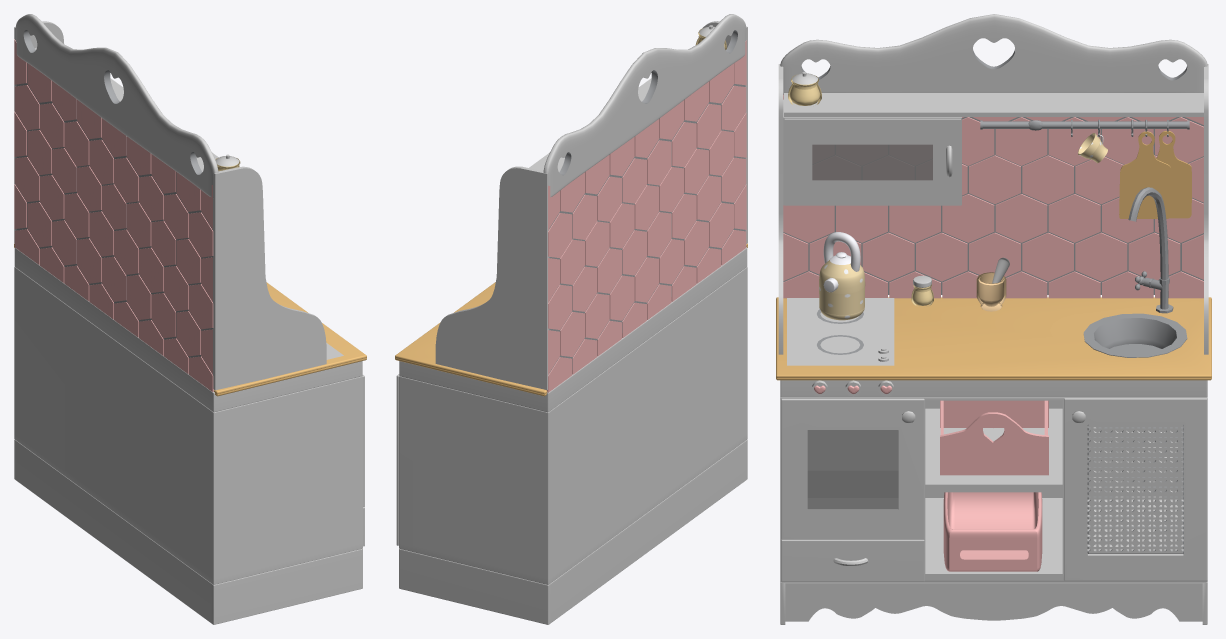
The model's file is NEW_KITCHEN.glb.
The picture shows the model from 3 angles, left to right: view 1: azimuth 30°, elevation 25°; view 2: azimuth 150°, elevation 25°; view 3: azimuth 270°, elevation 25°; orthographic projection. The views are drawn at different scales.
Parts seen in each view (by area): view 1: Buffer Layer 2, Buffer Layer 3, Buffer Layer 1, Buffer Layer; view 2: Buffer Layer 2, Buffer Layer 3, Buffer Layer 1, Buffer Layer; view 3: Buffer Layer 2, Buffer Layer 3, Buffer Layer (×6), Buffer Layer 1, полка, полка_с_сердцем, доска1, Buffer Layer 4.
Part boxes in pixels (x1,y1,x2,y2): Buffer Layer 2: [14, 14, 364, 624]; Buffer Layer 3: [14, 39, 213, 391]; Buffer Layer 1: [16, 30, 212, 374]; Buffer Layer: [14, 243, 366, 396]; Buffer Layer 2: [396, 14, 747, 624]; Buffer Layer 3: [546, 40, 746, 392]; Buffer Layer 1: [549, 30, 745, 373]; Buffer Layer: [395, 243, 747, 396]; Buffer Layer 2: [778, 14, 1208, 624]; Buffer Layer 3: [783, 94, 1203, 394]; Buffer Layer (×6): [776, 75, 1211, 509]; Buffer Layer 1: [783, 50, 1203, 553]; полка: [943, 492, 1042, 571]; полка_с_сердцем: [940, 400, 1048, 475]; доска1: [1119, 131, 1191, 218]; Buffer Layer 4: [1128, 187, 1173, 313].
Bounding box in the file's own units: 0.8328 × 2.48 × 1.83.
Materials: 11 (2 with a texture image).
